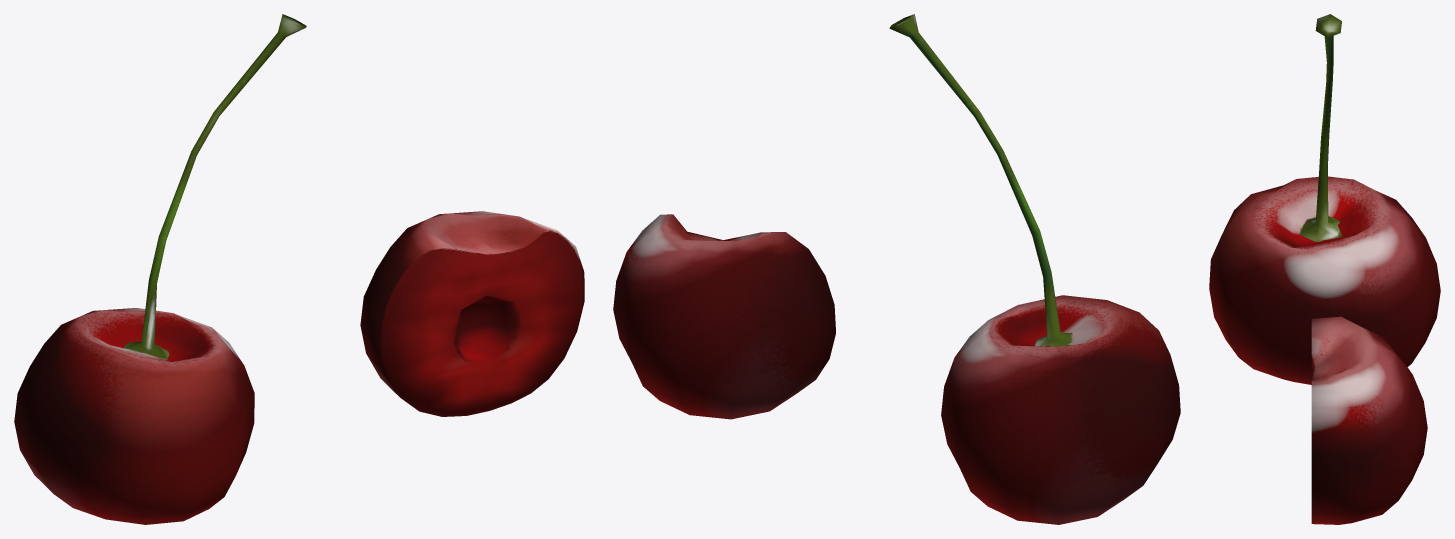
File: ceresas.fbx
3 views of the same model, side by side, from view 1: azimuth 30°, elevation 25°; view 2: azimuth 150°, elevation 25°; view 3: azimuth 270°, elevation 25° (orthographic). The views are drawn at different scales.
Visible parts, largest first — view 1: full_cherry, half_cherry; view 2: full_cherry, half_cherry; view 3: full_cherry, half_cherry.
Part boxes in pixels (<box>): full_cherry: <box>14,14,306,524</box>; half_cherry: <box>360,211,584,416</box>; full_cherry: <box>889,14,1180,524</box>; half_cherry: <box>613,214,835,419</box>; full_cherry: <box>1209,14,1440,384</box>; half_cherry: <box>1311,316,1427,524</box>.
Size of the model in its own units: 143 by 115 by 56.35.
Materials: 1 (1 with a texture image).
